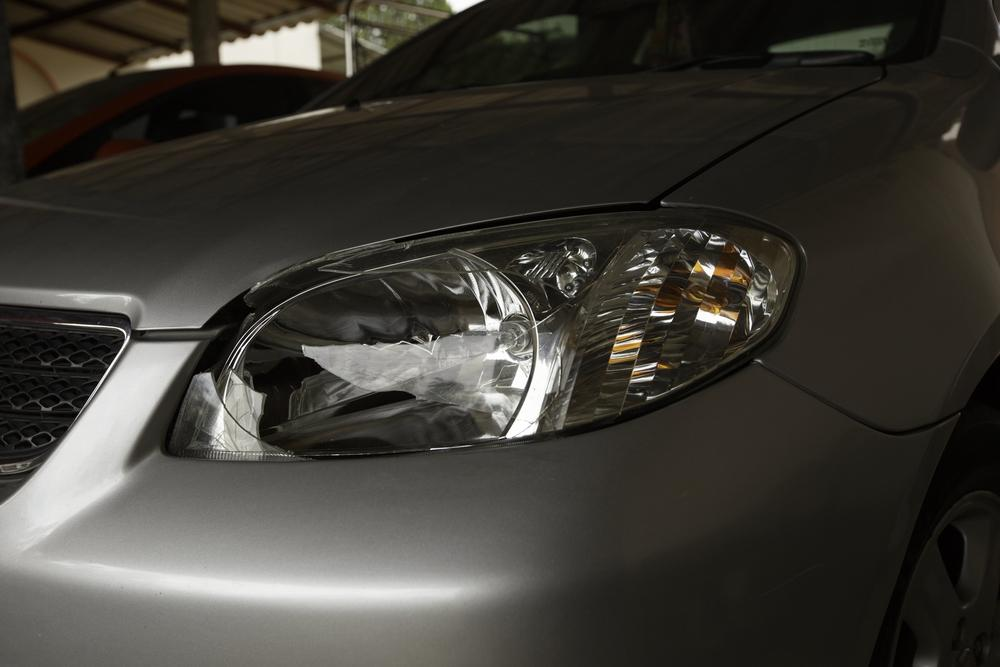lamp broken: (165, 205, 798, 461)
